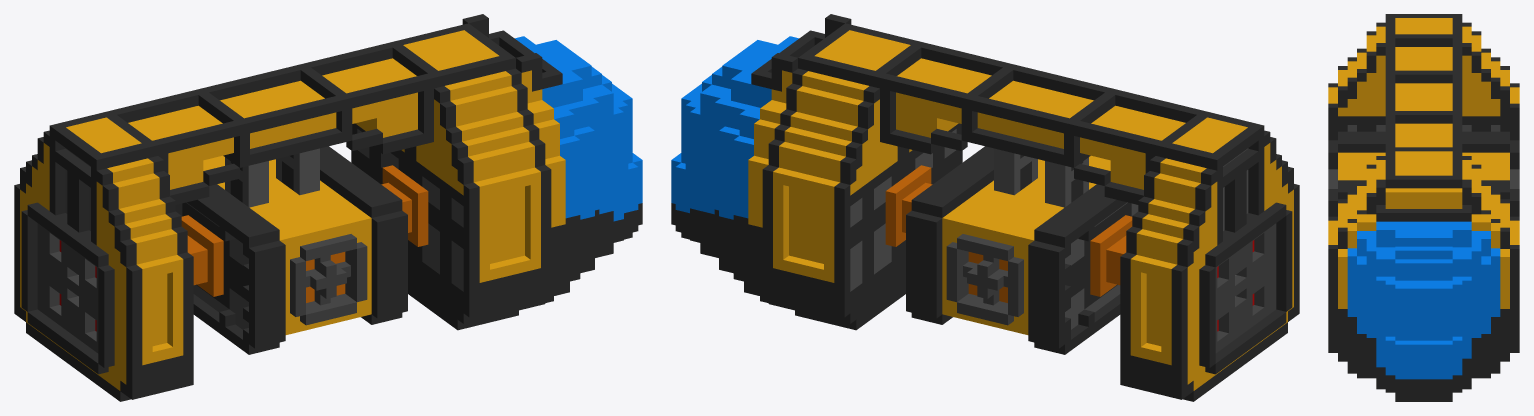
File: ConstructionShip#3.fbx
3 renders of one model, left to right at view 1: azimuth 30°, elevation 25°; view 2: azimuth 150°, elevation 25°; view 3: azimuth 270°, elevation 25°, orthographic. The views are drawn at different scales.
Visible parts, largest first — view 1: ConstructionShip#1; view 2: ConstructionShip#1; view 3: ConstructionShip#1.
Boxes of the visible parts, x1,y1,x2,y2 form: ConstructionShip#1: (14, 14, 642, 401); ConstructionShip#1: (671, 14, 1299, 401); ConstructionShip#1: (1328, 14, 1519, 401).
Bounding box in the file's own units: 550 × 220 × 200.
1 material, 1 textured.
